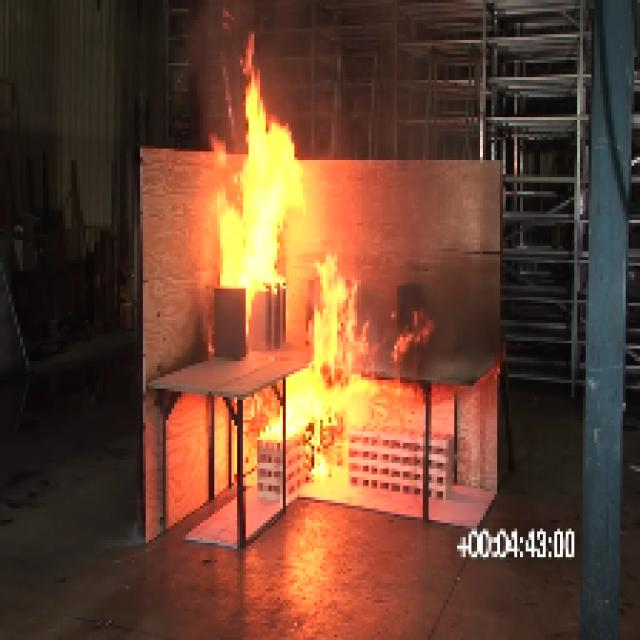fire: (216, 56, 308, 308), (310, 269, 381, 498)
